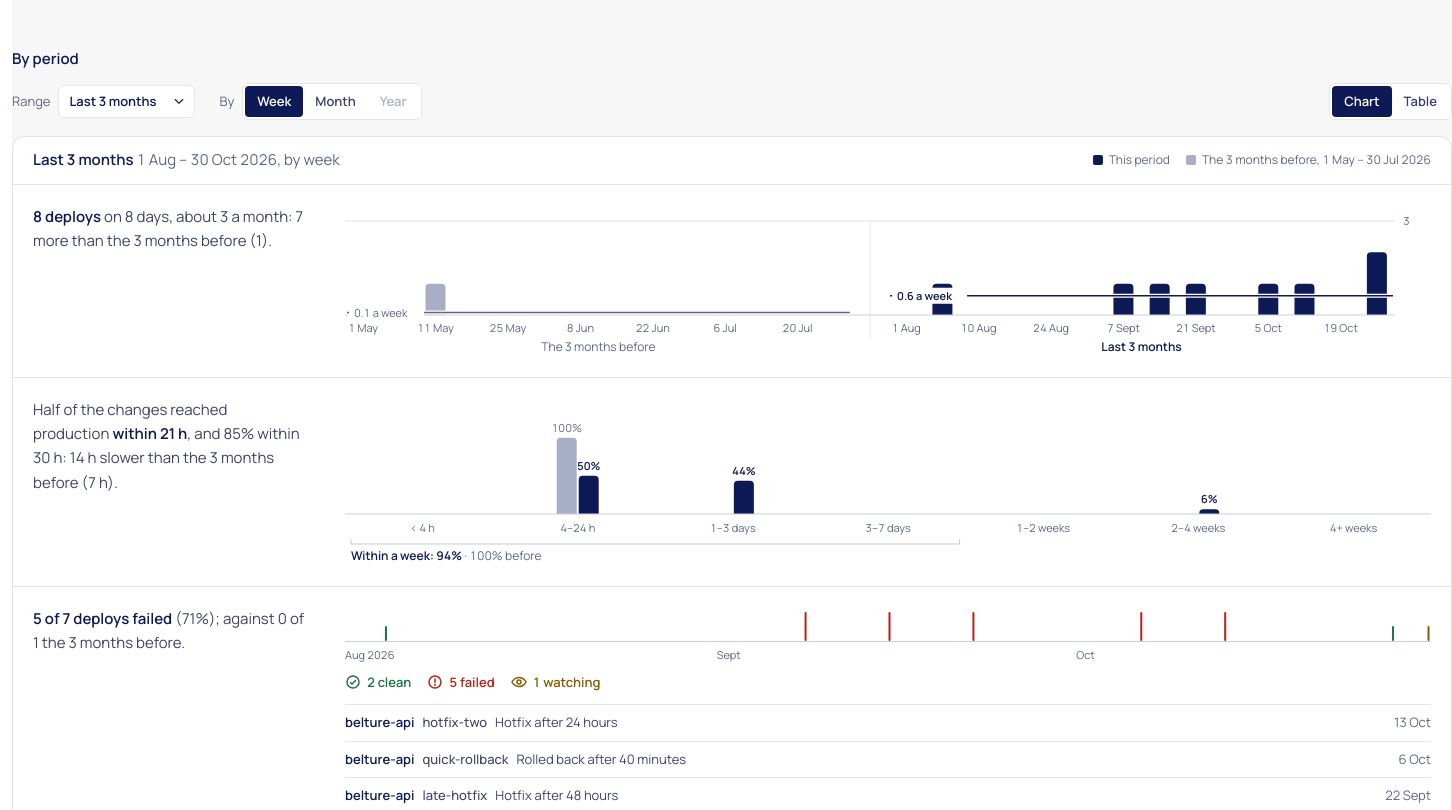
Test case: PeriodSection › changes the range and the grouping, and says what it cannot compare
Select "This month" in the dropdown labelled "Range". click: (127, 101)
box: x1=58 y1=84 x2=195 y2=118
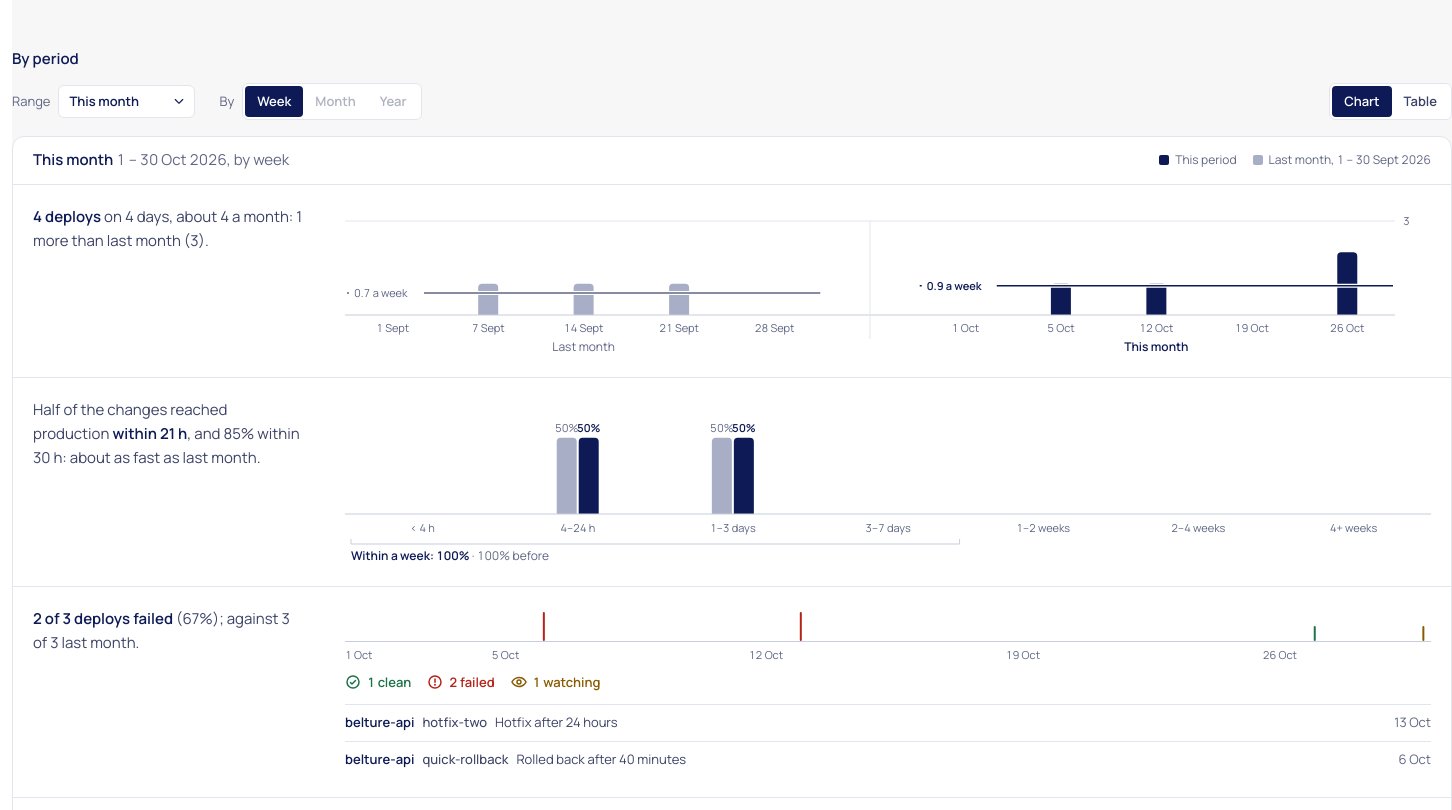
Expected: the text "1 – 30 Oct 2026, by week" is shown, x1=116 y1=149 x2=289 y2=170
Expected: the radio button labelled "Month" is disabled, x1=315 y1=92 x2=356 y2=110
Select "Last 12 months" in the dropdown labelled "Range". click: (127, 101)
box: x1=58 y1=84 x2=195 y2=118
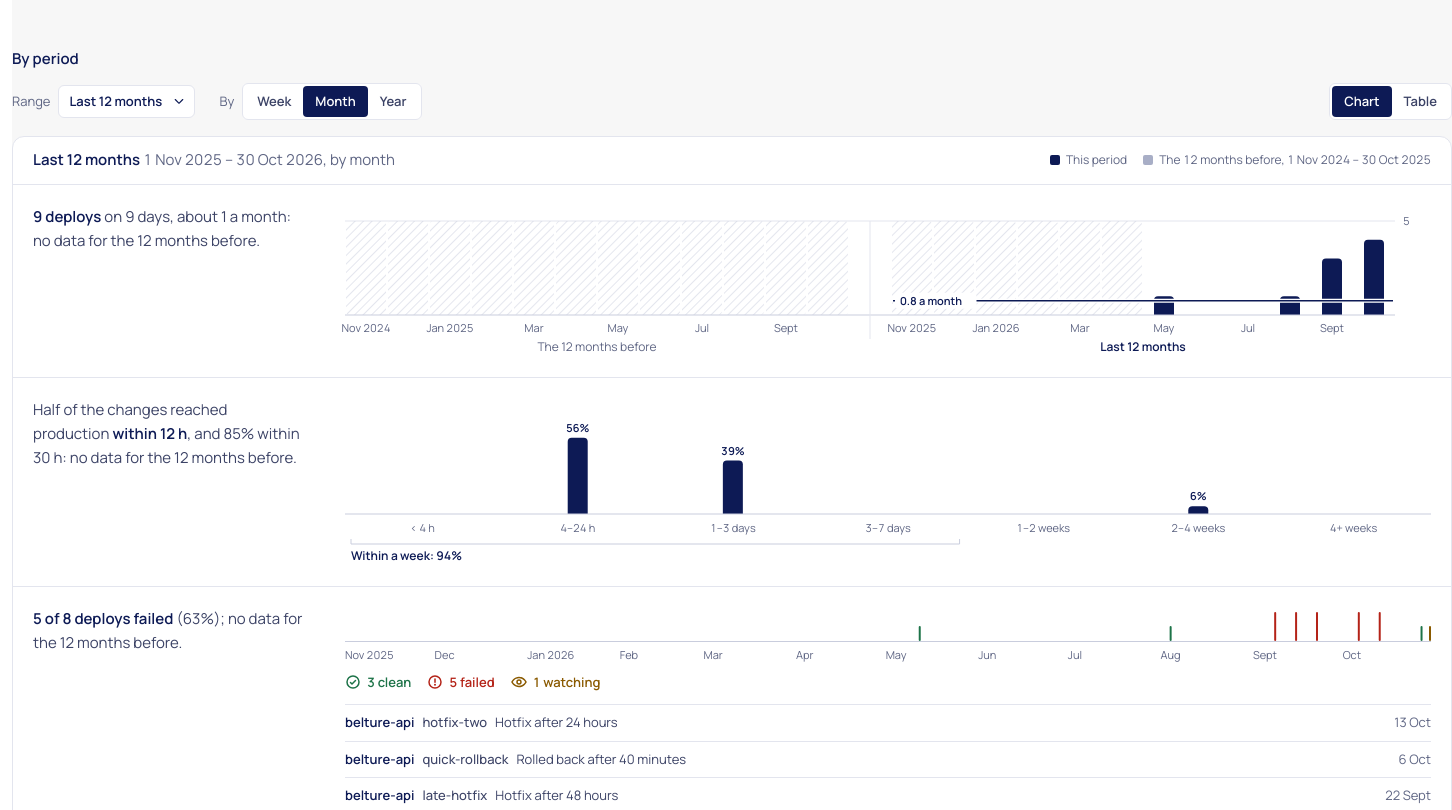
Expected: the text "1 Nov 2025 – 30 Oct 2026, by month" is shown, x1=143 y1=149 x2=395 y2=170
Click the radio button labelled "Year". click: click(393, 100)
box: x1=380 y1=92 x2=406 y2=110
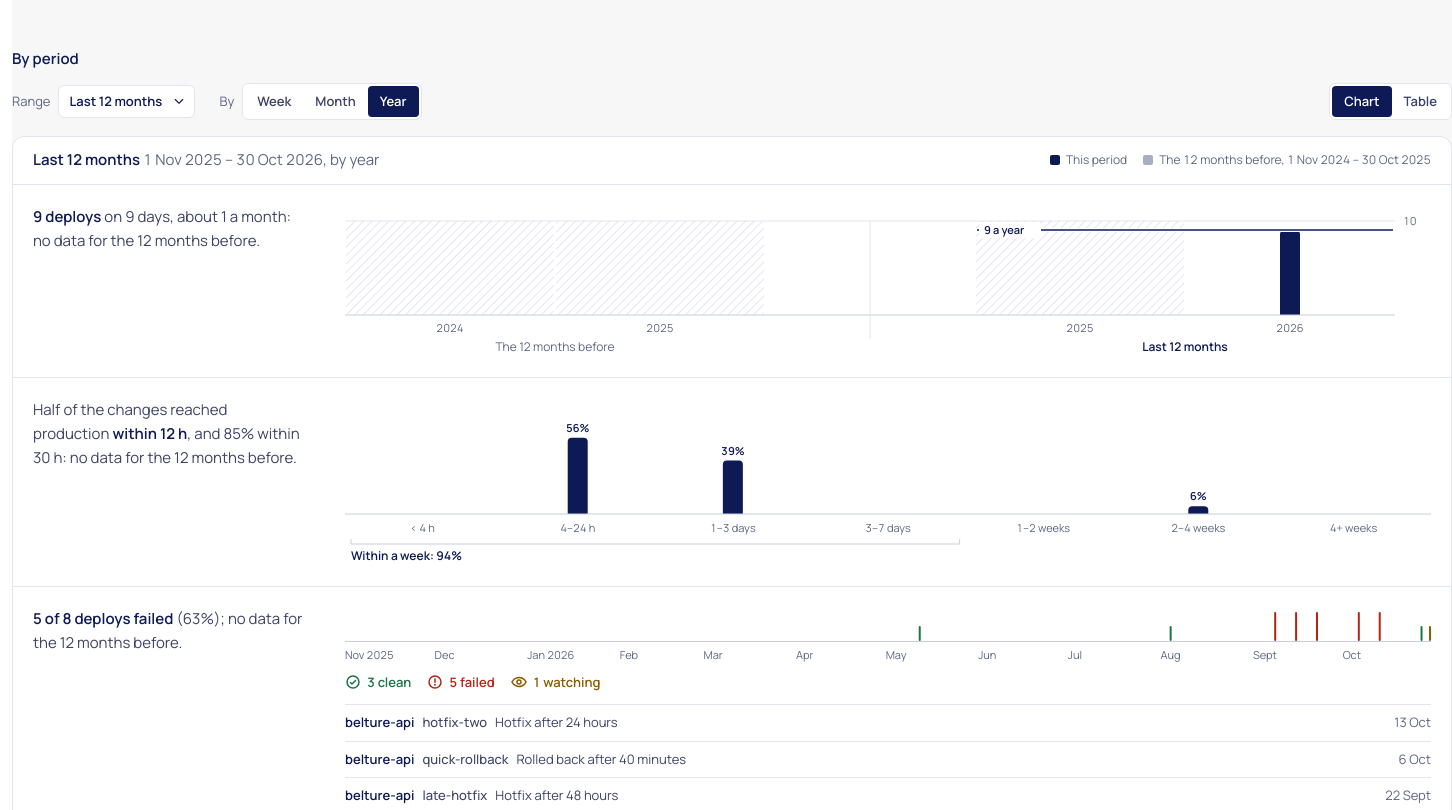
Expected: the text "1 Nov 2025 – 30 Oct 2026, by year" is shown, x1=143 y1=149 x2=379 y2=170
